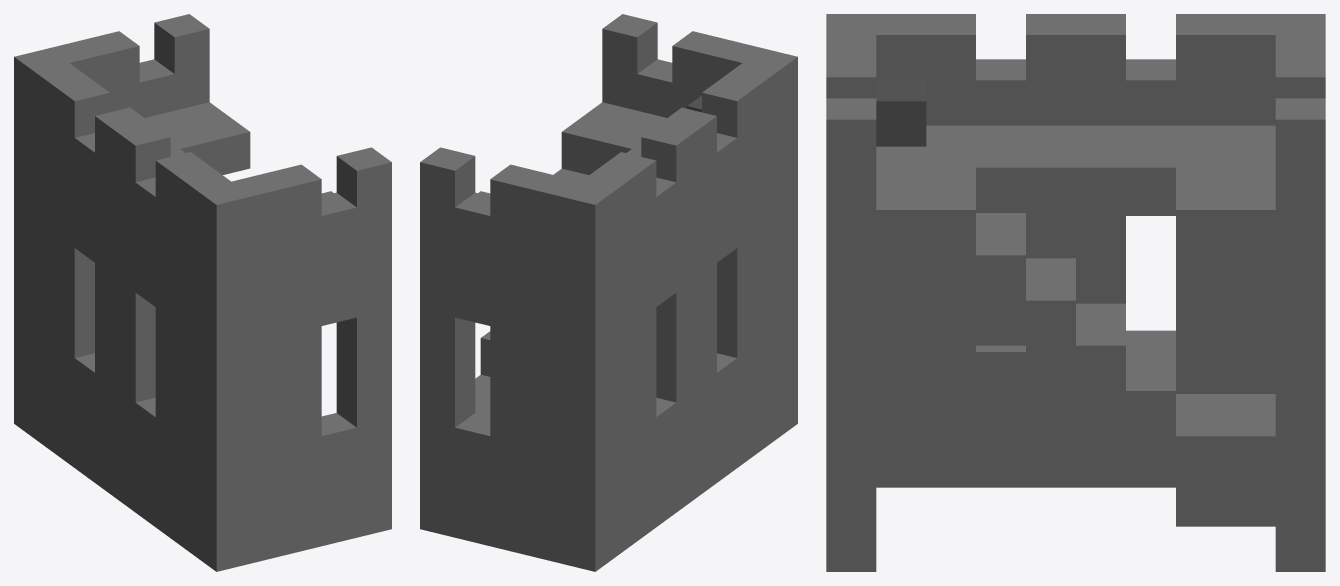
The model's file is building_tower_right.obj.
The picture shows the model from 3 angles, left to right: view 1: azimuth 30°, elevation 25°; view 2: azimuth 150°, elevation 25°; view 3: azimuth 270°, elevation 25°; orthographic projection. The views are drawn at different scales.
Size of the model in its own units: 5 by 10 by 10.
1 material, 1 textured.
